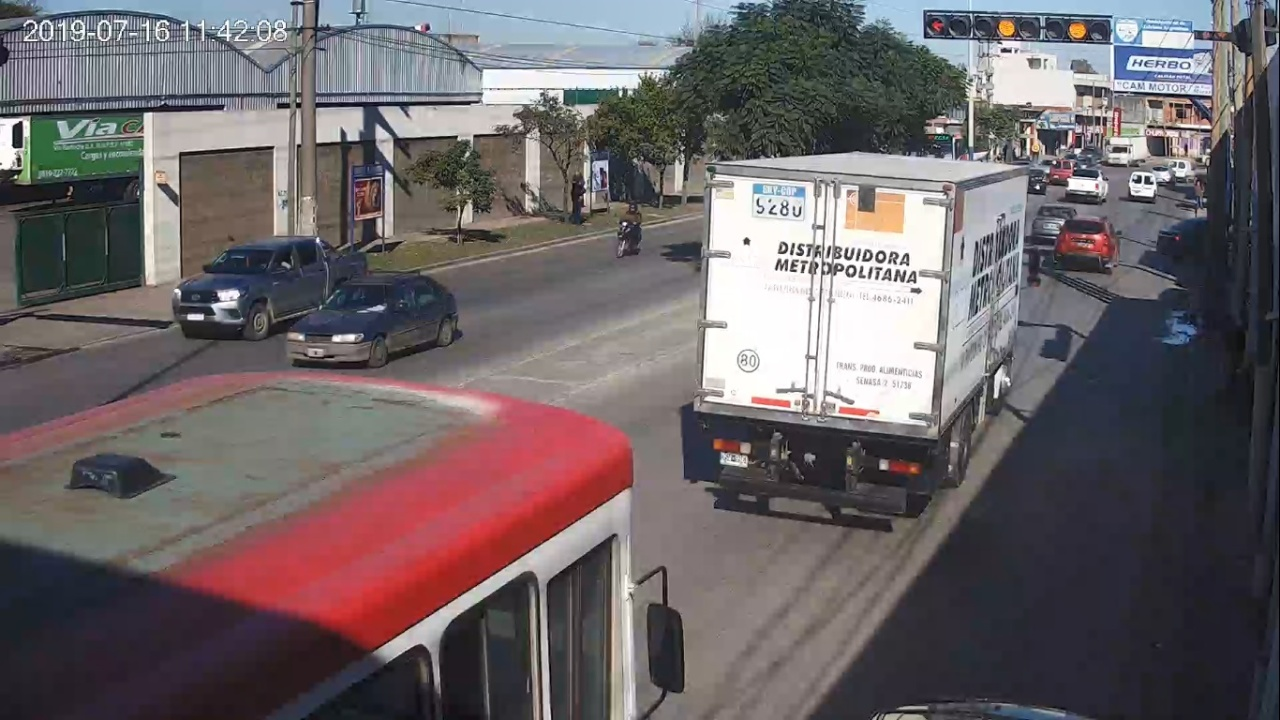bus: (2, 373, 683, 720)
front car: (286, 272, 459, 368)
traffic light: (974, 12, 1110, 43)
truck: (693, 152, 1039, 511)
